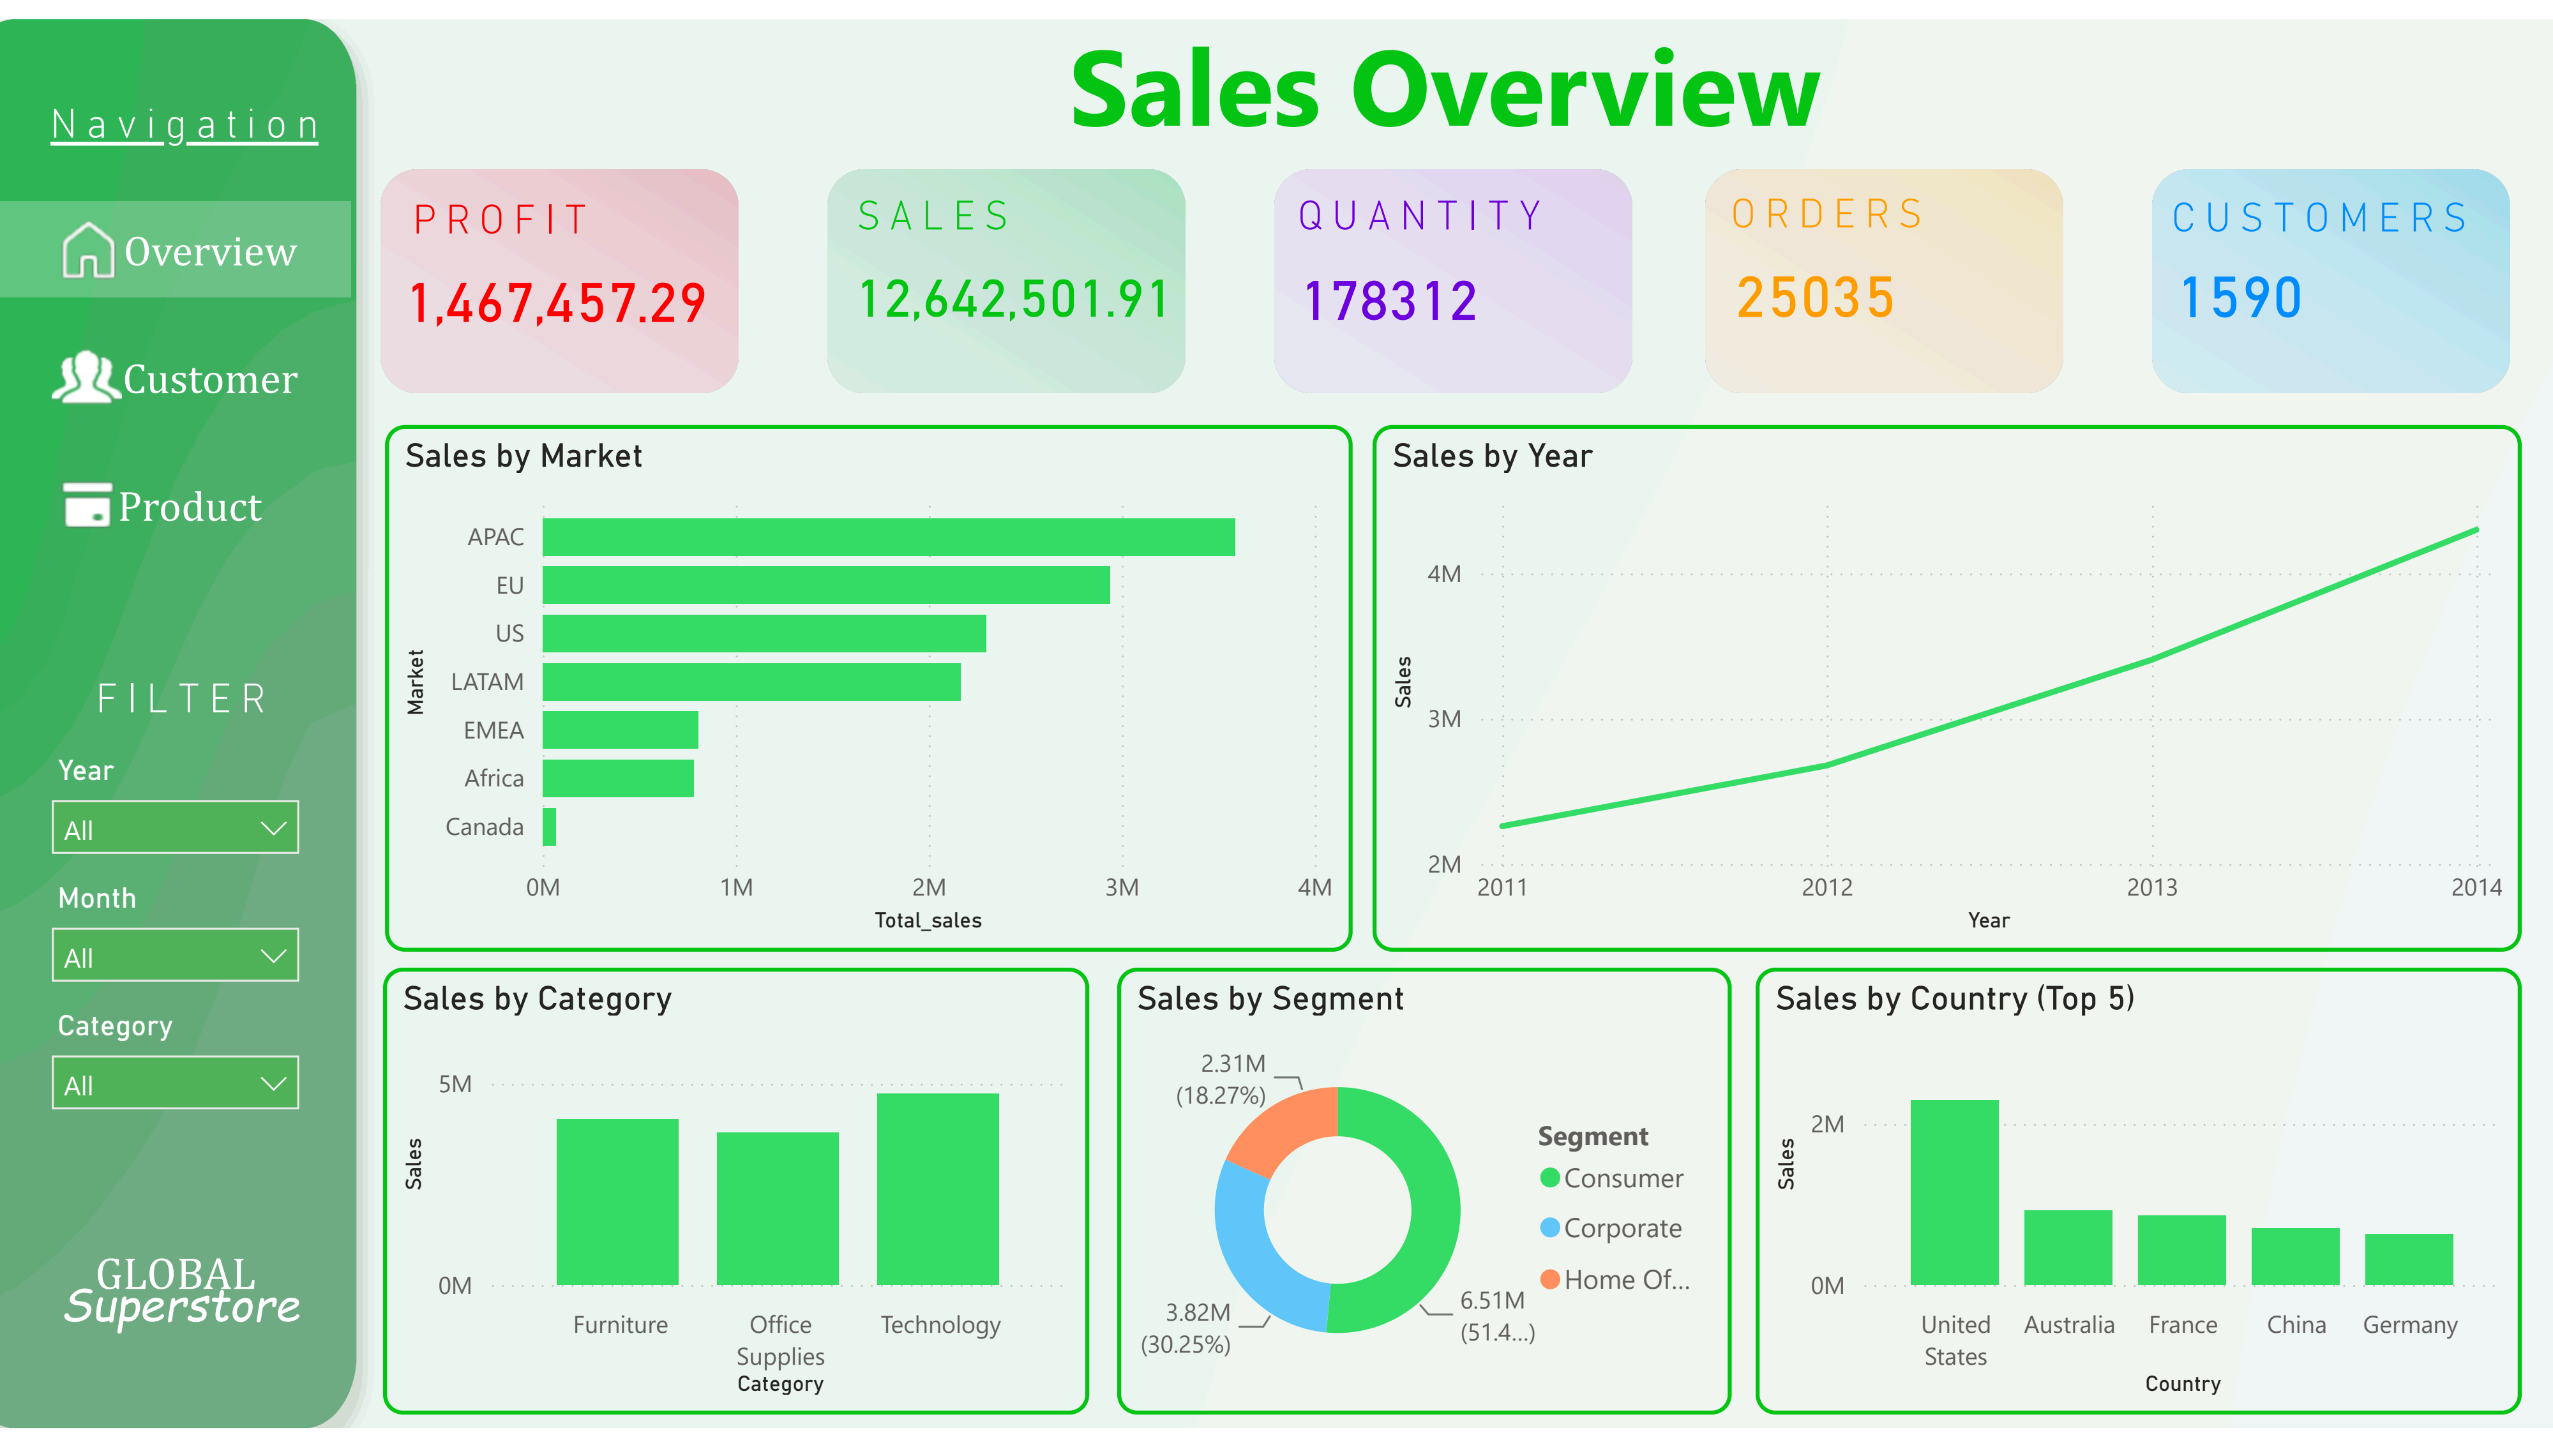

This screenshot's page, from the dashboard's own definition file:
{"tool":"powerbi","page":{"name":"1","canvas":[1280,720],"ordinal":1},"visuals":[{"type":"shape","box":[16,608,144,48],"z":0},{"type":"image","box":[1056,80,224,112],"z":1000},{"type":"shape","box":[16,624,149,48],"z":2000},{"type":"image","box":[832,80,224,112],"z":3000},{"type":"image","box":[624,80,208,112],"z":4000},{"type":"image","box":[400,80,208,112],"z":5000},{"type":"image","box":[176,80,208,112],"z":6000},{"type":"clusteredBarChart","title":"Sales by Market","fields":{"Category":["globalsuperstore.Market"],"Y":["Calculation.Total_sales"]},"box":[192.5,207.5,485,264],"z":7000},{"type":"donutChart","title":"Sales by Segment","fields":{"Category":["globalsuperstore.Segment"],"Y":["Calculation.Total_sales"]},"box":[560,480,308,224],"z":8000},{"type":"lineChart","title":"Sales by Year","fields":{"Category":["globalsuperstore.Order Date.Variation.Date Hierarchy.Year","globalsuperstore.Order Date.Variation.Date Hierarchy.Month"],"Y":["Calculation.Total_sales"]},"box":[687.5,207.5,576.2,264],"z":9000},{"type":"clusteredColumnChart","title":"Sales by Category","fields":{"Category":["globalsuperstore.Category","globalsuperstore.Sub-Category"],"Y":["Calculation.Total_sales"]},"box":[192,480,354,224],"z":10000},{"type":"clusteredColumnChart","title":"Sales by Country (Top 5)","fields":{"Category":["globalsuperstore.Country"],"Y":["Calculation.Total_sales"]},"box":[880,480,384,224],"z":11000},{"type":"card","fields":{"Values":["Calculation.Total_Profit"]},"box":[190.7,105.8,175.6,77.9],"z":12000},{"type":"card","fields":{"Values":["Calculation.Total_sales"]},"box":[410.5,103.5,196.5,80.2],"z":13000},{"type":"card","fields":{"Values":["Calculation.Total_customer"]},"box":[1043,117.4,159.3,50],"z":14000},{"type":"card","fields":{"Values":["Calculation.Total_orders"]},"box":[830.2,114,160.5,55.8],"z":15000},{"type":"card","fields":{"Values":["Calculation.Total_quantity"]},"box":[616.3,111.6,160.5,64],"z":16000},{"type":"actionButton","box":[0,96,176,48],"z":17000},{"type":"actionButton","box":[0,160,176,48],"z":18000},{"type":"actionButton","box":[0,224,176,48],"z":19000},{"type":"shape","box":[18,32,149,48],"z":20000},{"type":"shape","box":[16,320,149,48],"z":21000},{"type":"slicer","fields":{"Values":["globalsuperstore.Order Date.Variation.Date Hierarchy.Year"]},"box":[16,368,144,64],"z":22000},{"type":"slicer","fields":{"Values":["globalsuperstore.Order Date.Variation.Date Hierarchy.Month"]},"box":[16,432,144,64],"z":23000},{"type":"slicer","fields":{"Values":["globalsuperstore.Category"]},"box":[16,496,144,64],"z":24000},{"type":"shape","box":[514,0,420.9,68.6],"z":25000},{"type":"shape","box":[176,80,149,48],"z":26000},{"type":"shape","box":[393,79.1,148.8,47.7],"z":27000},{"type":"shape","box":[637.2,79.1,148.8,47.7],"z":28000},{"type":"shape","box":[840.7,77.9,148.8,47.7],"z":29000},{"type":"shape","box":[1088.4,80.2,148.8,47.7],"z":30000}]}

Visuals, with their boxes in screenshot pixels (x1, y1, x2, y2), scaled from the page's 1280x720 canvas onto the 2553x1456 screenshot:
shape: bbox(32, 1229, 319, 1326)
image: bbox(2106, 161, 2552, 388)
shape: bbox(32, 1262, 329, 1359)
image: bbox(1659, 161, 2106, 388)
image: bbox(1245, 161, 1659, 388)
image: bbox(798, 161, 1213, 388)
image: bbox(351, 161, 766, 388)
"Sales by Market" clusteredBarChart: bbox(384, 419, 1352, 954)
"Sales by Segment" donutChart: bbox(1117, 971, 1731, 1423)
"Sales by Year" lineChart: bbox(1371, 419, 2520, 954)
"Sales by Category" clusteredColumnChart: bbox(383, 971, 1089, 1423)
"Sales by Country (Top 5)" clusteredColumnChart: bbox(1755, 971, 2521, 1423)
card - Calculation.Total_Profit: bbox(380, 214, 730, 372)
card - Calculation.Total_sales: bbox(818, 209, 1210, 372)
card - Calculation.Total_customer: bbox(2081, 237, 2398, 338)
card - Calculation.Total_orders: bbox(1656, 230, 1976, 343)
card - Calculation.Total_quantity: bbox(1229, 226, 1549, 355)
actionButton: bbox(0, 194, 351, 291)
actionButton: bbox(0, 324, 351, 421)
actionButton: bbox(0, 453, 351, 550)
shape: bbox(36, 64, 333, 161)
shape: bbox(32, 647, 329, 744)
slicer - globalsuperstore.Order Date.Variation.Date Hierarchy.Year: bbox(32, 744, 319, 874)
slicer - globalsuperstore.Order Date.Variation.Date Hierarchy.Month: bbox(32, 874, 319, 1003)
slicer - globalsuperstore.Category: bbox(32, 1003, 319, 1132)
shape: bbox(1025, 0, 1865, 139)
shape: bbox(351, 161, 648, 259)
shape: bbox(784, 160, 1081, 257)
shape: bbox(1271, 160, 1568, 257)
shape: bbox(1677, 158, 1973, 254)
shape: bbox(2171, 162, 2467, 259)
